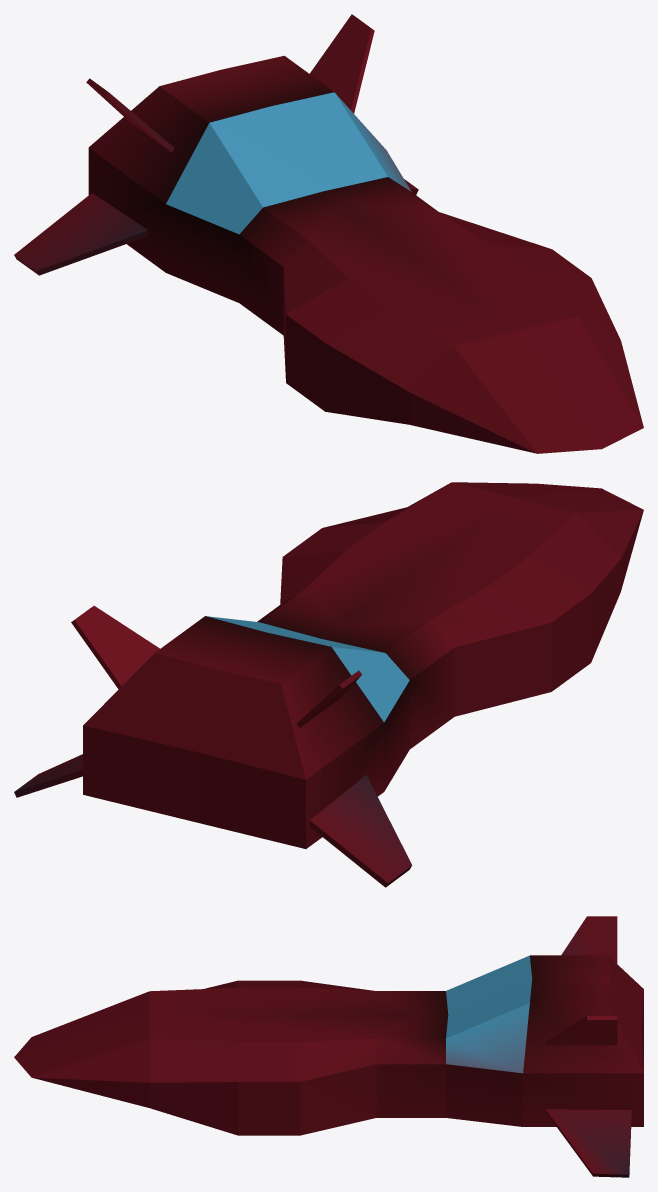
The model's file is mothership.fbx.
3 views of the same model, one above another, from view 1: azimuth 30°, elevation 25°; view 2: azimuth 150°, elevation 25°; view 3: azimuth 270°, elevation 25° (orthographic). The views are drawn at different scales.
Parts seen in each view (by area): view 1: Cylinder.001; view 2: Cylinder.001; view 3: Cylinder.001.
Part boxes in pixels (box(x1,y1,x2,y2)): Cylinder.001: box(14, 14, 643, 453); Cylinder.001: box(14, 482, 643, 887); Cylinder.001: box(14, 916, 643, 1177).
Size of the model in its own units: 374 by 173 by 692.
